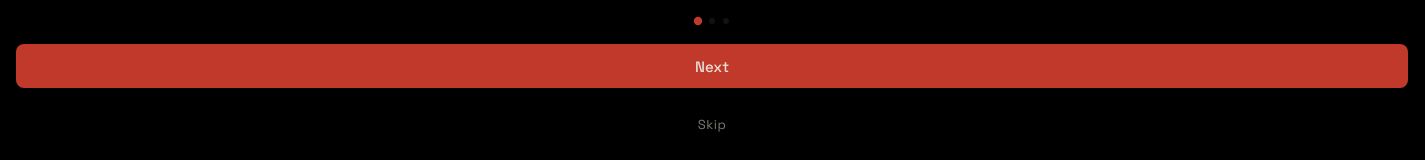
Test: Onboarding page › hides Skip button on second card
Click the button "Next" at (712,66), box [16,44,1408,88]
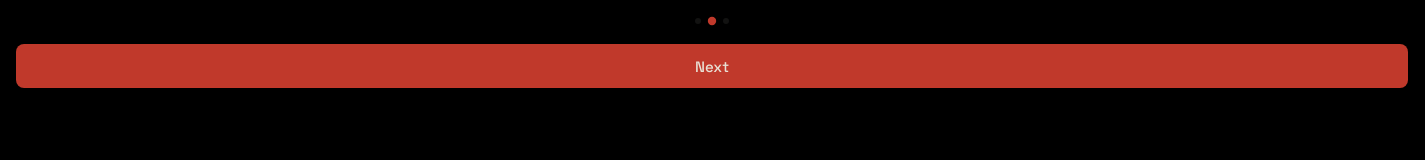
Expected: the button "Skip" is gone
